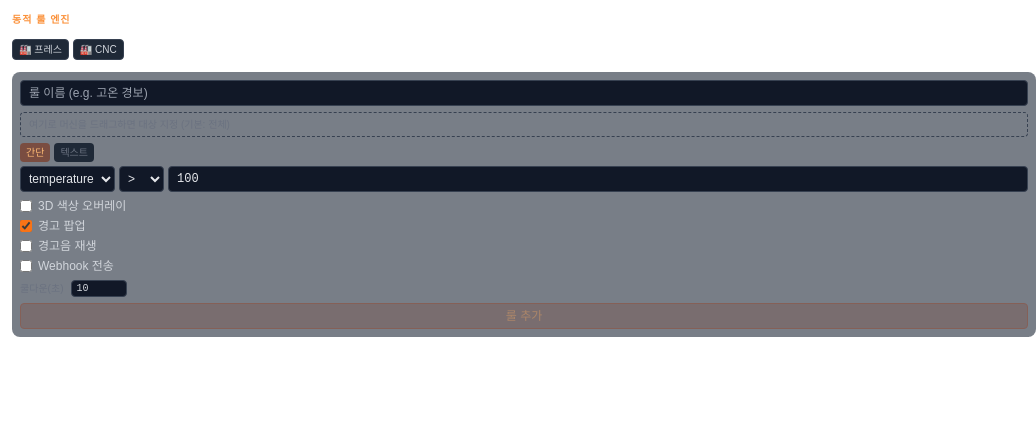
RuleEditorPanel — B: simple condition builder mode › updates the assembled condition string when the variable dropdown changes
Select "vibration" in the dropdown with test id "rule-simple-var" at [68, 179], box [20, 166, 115, 192]
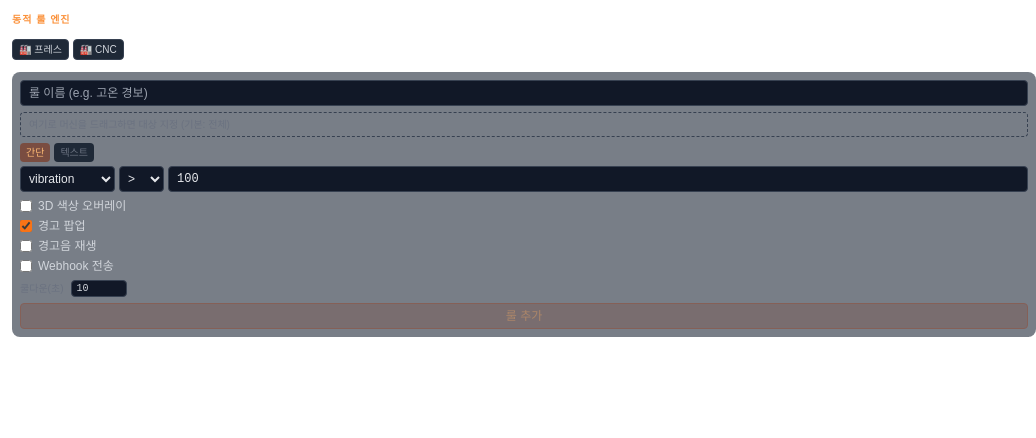
Type "진동 경보" into the field with placeholder "룰 이름 (e.g. 고온 경보)" at [524, 93], box [20, 80, 1028, 106]
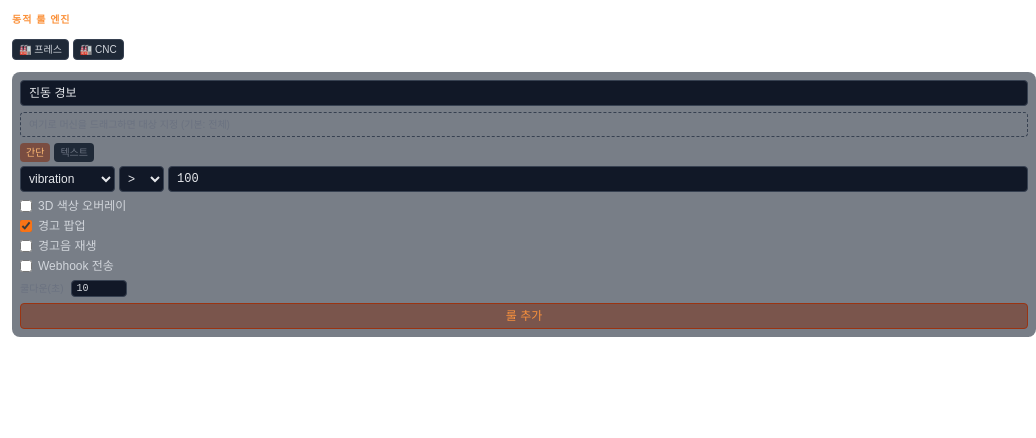
Click the button "룰 추가" at [524, 316], box [20, 303, 1028, 329]
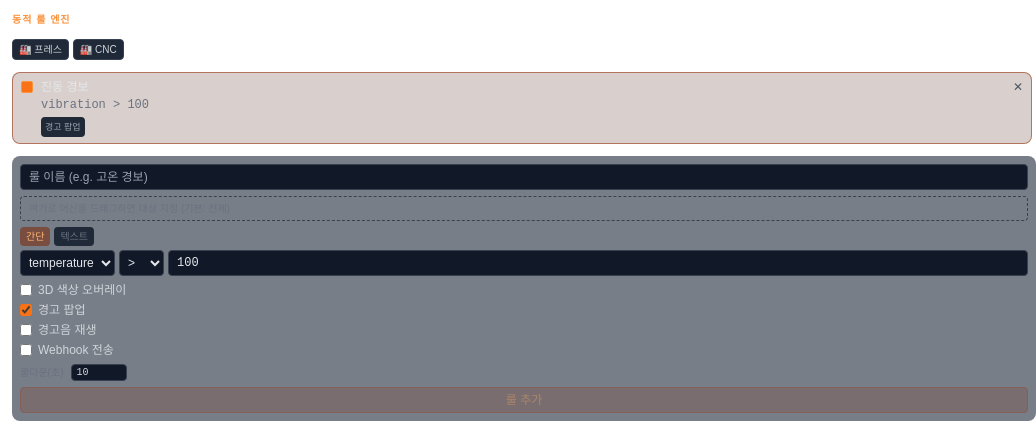
Now the text "vibration > 100" is shown, box [41, 98, 149, 112]
